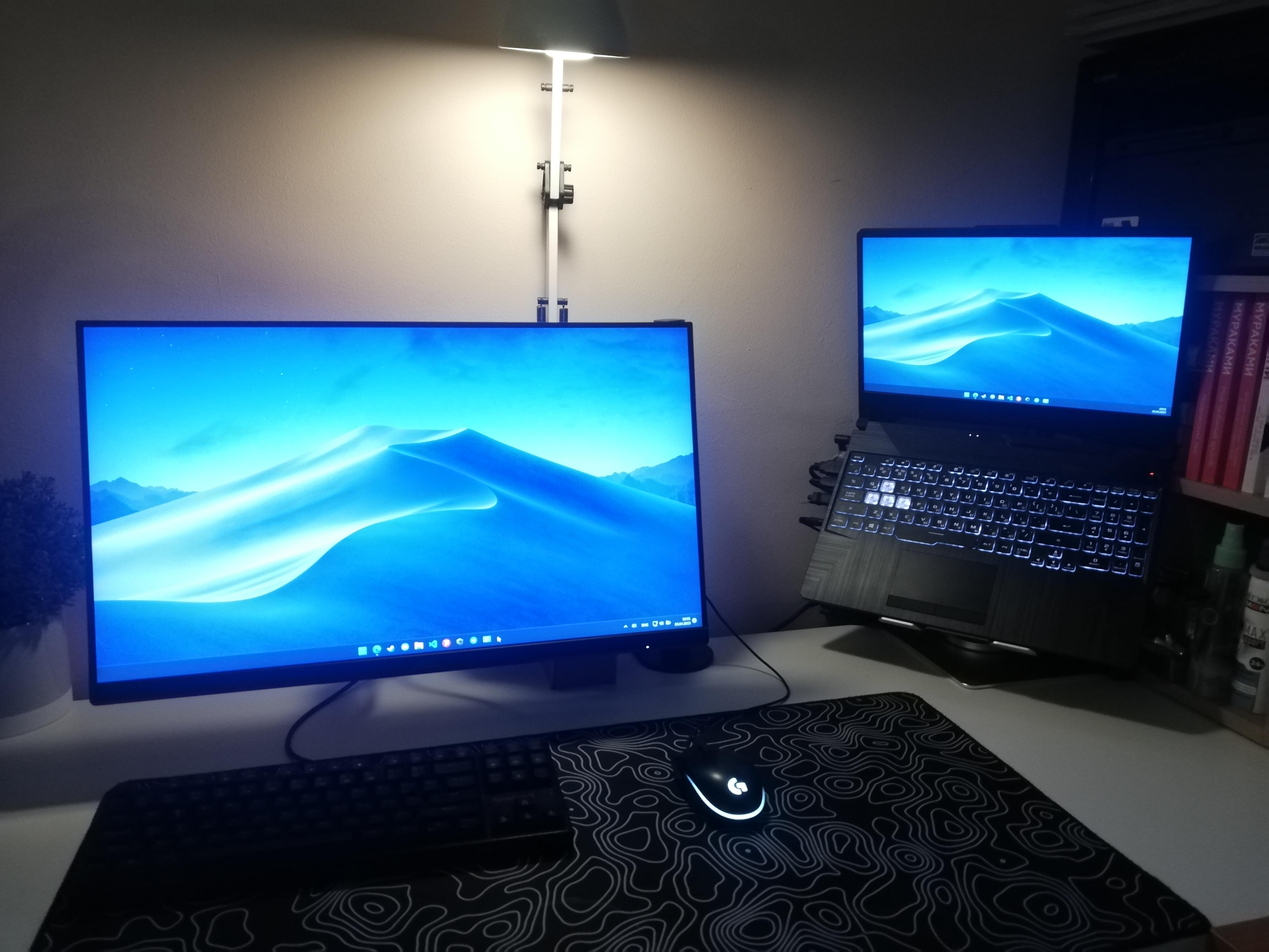monitor: (69, 313, 723, 713), (852, 225, 1208, 472)
